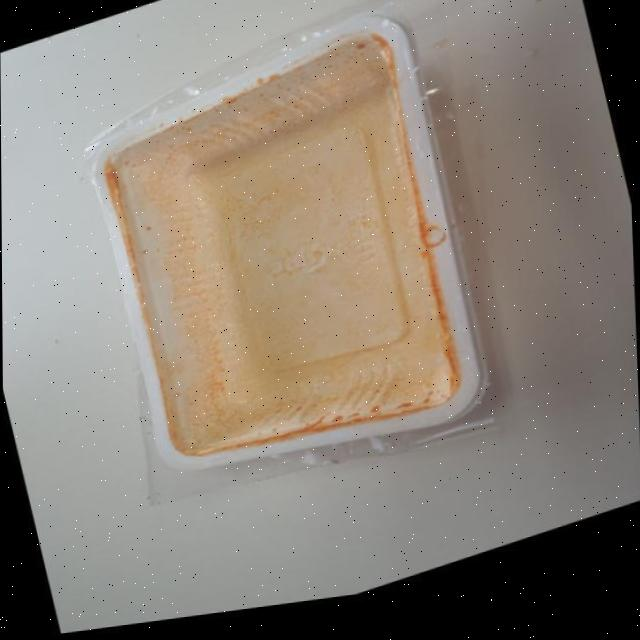disposable: (78, 0, 505, 542)
